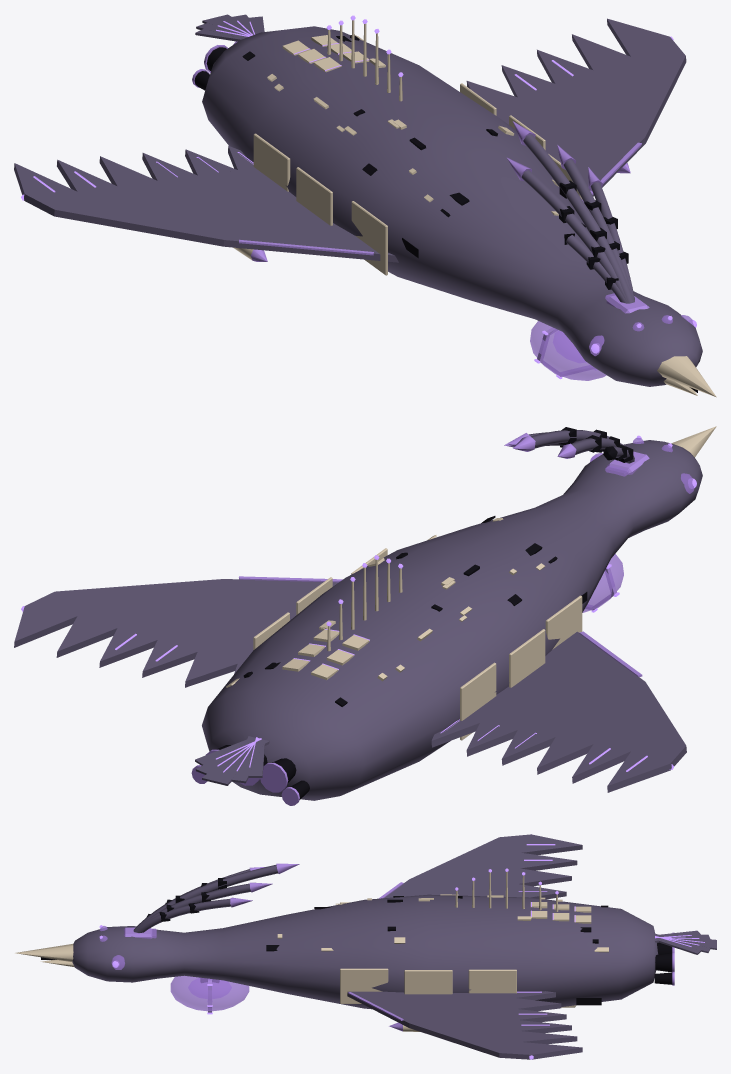
File: choral-piesniarze-trade-9-lod0.glb
The picture shows the model from 3 angles, top to bottom: view 1: azimuth 30°, elevation 25°; view 2: azimuth 150°, elevation 25°; view 3: azimuth 270°, elevation 25°; orthographic projection. The views are drawn at different scales.
Bounding box in the file's own units: 72.71 × 21.98 × 97.07.
